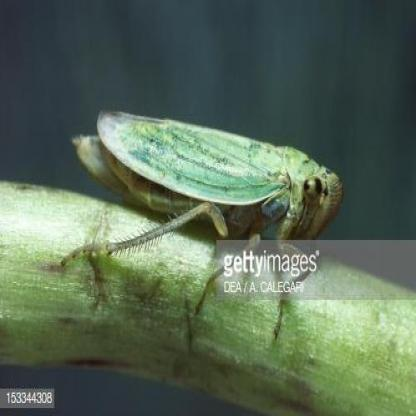Green-Leafhopper: (65, 97, 342, 346)
